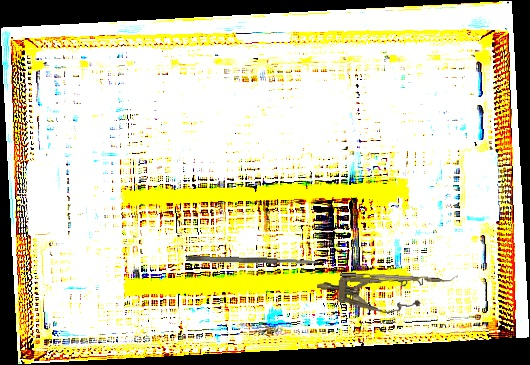Chopper: (340, 266, 458, 285)
Spatula Surgical: (185, 254, 321, 267)
Speculum: (314, 266, 424, 317)
